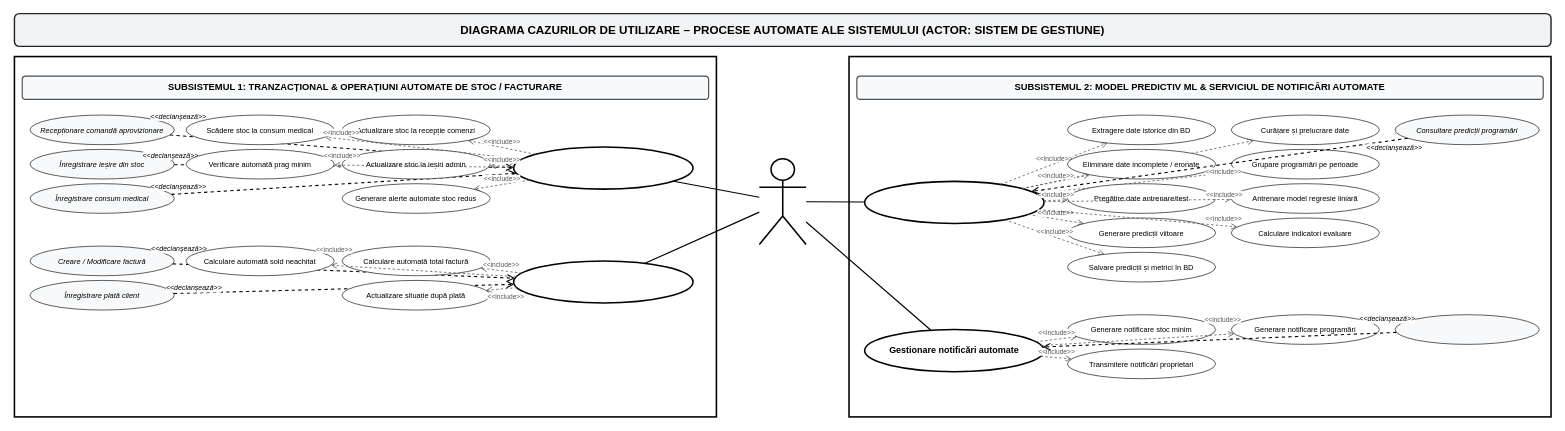
The diagram is 1565 pixels wide and 431 high, and some of its shapes have lost their labels. Here are the shapes that lost their labels. From the top down, the centre of each, then its label:
At (602,168): "Gestionare automată a stocurilor".
At (782,201): "Sistem de Gestiune (procese automate)".
At (953,202): "Generare automată a predicțiilor".
At (602,281): "Gestionare automată facturi și plăți".
At (1466,329): "Atingere prag minim / Dată programare".
